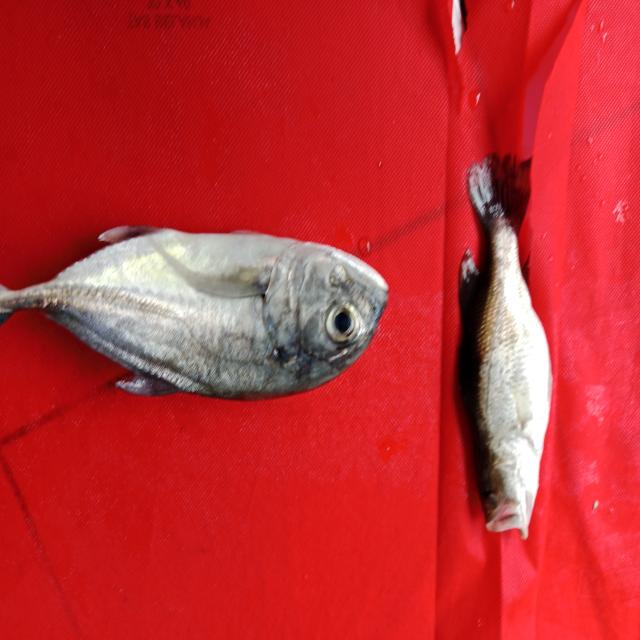ikan: (19, 213, 400, 424), (453, 130, 567, 562)
